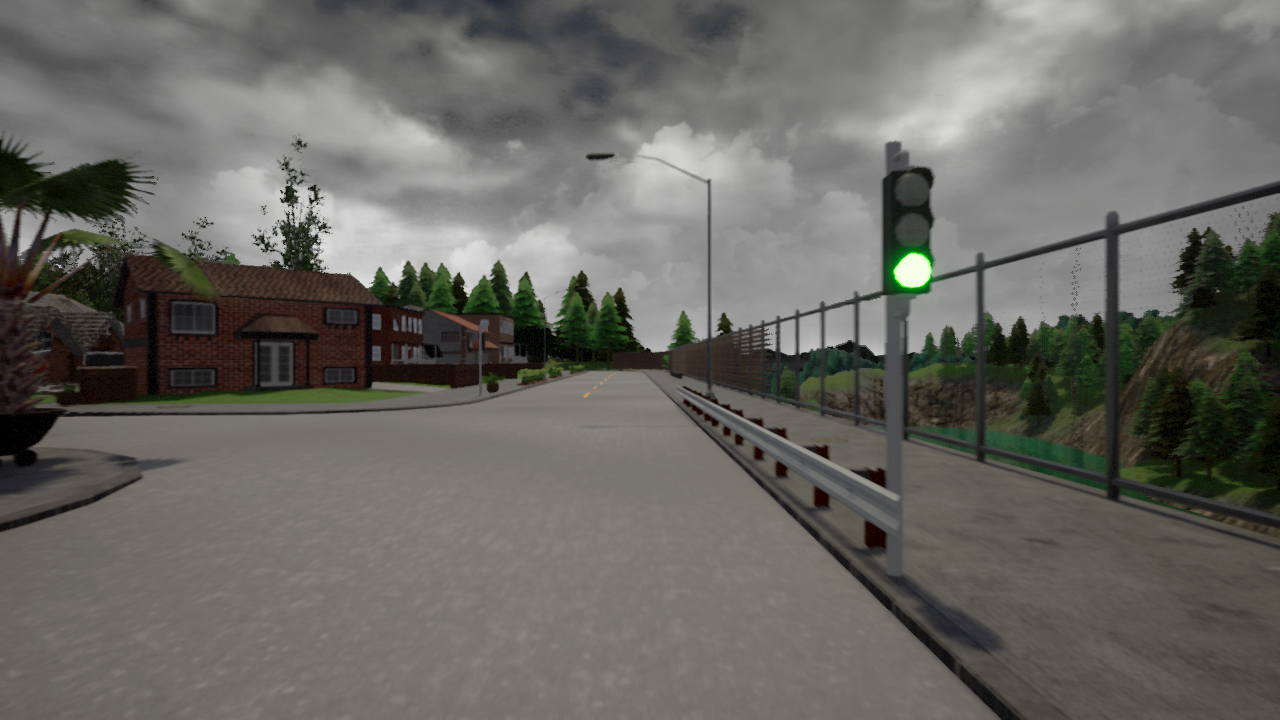green: (877, 166, 936, 300)
